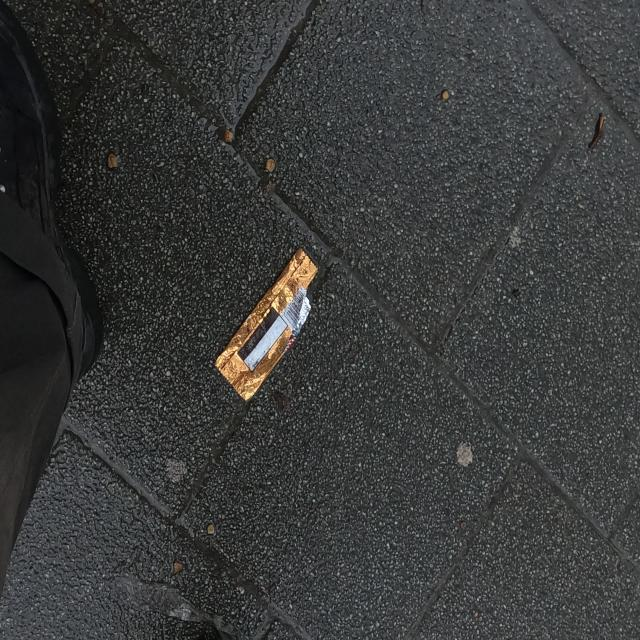Plastic: (212, 245, 318, 403)
